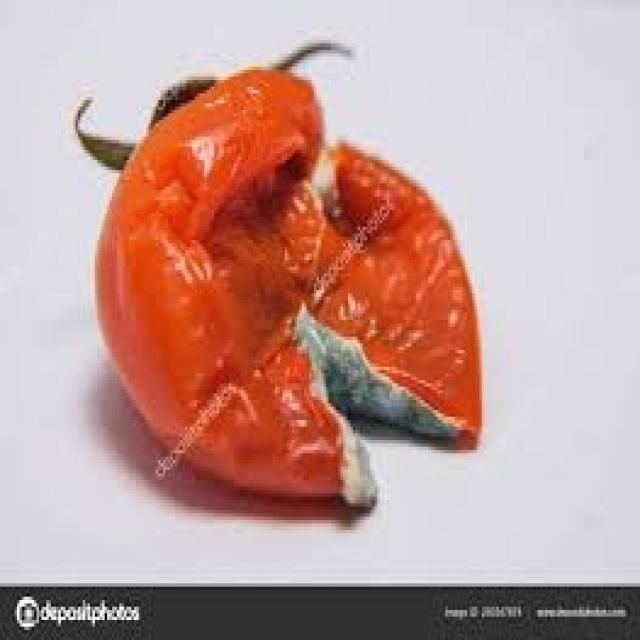organic waste: (73, 37, 479, 513)
